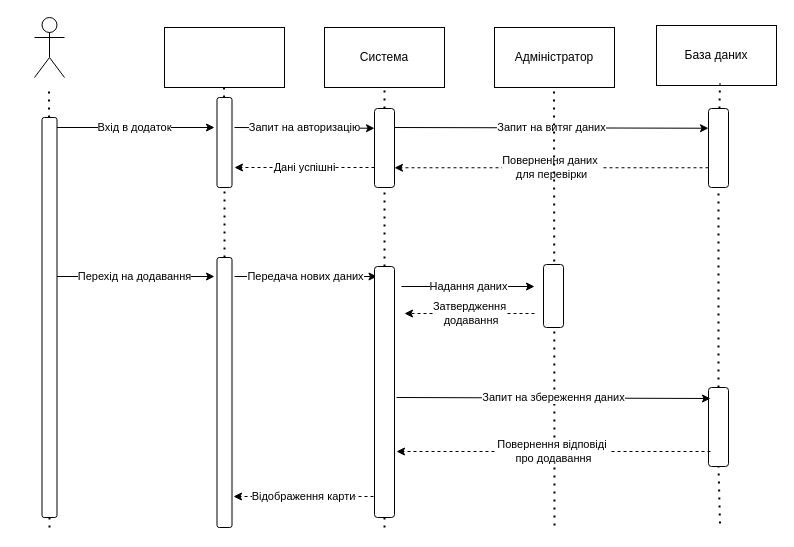
Image size: 794x547. Some labels were removed from this diagram. Each missing label, with the centre of its shape:
Веб-інтерфейс: pixel 224 57
Користувач: pixel 49 47
